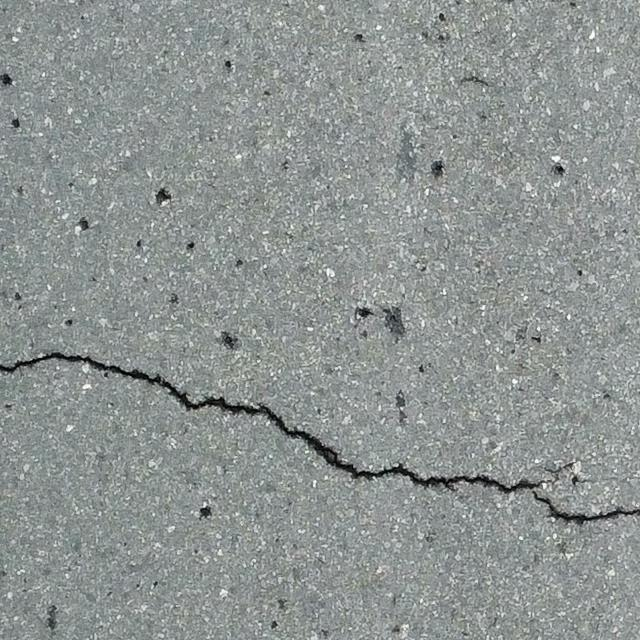TransverseCrack: (1, 352, 640, 524)
